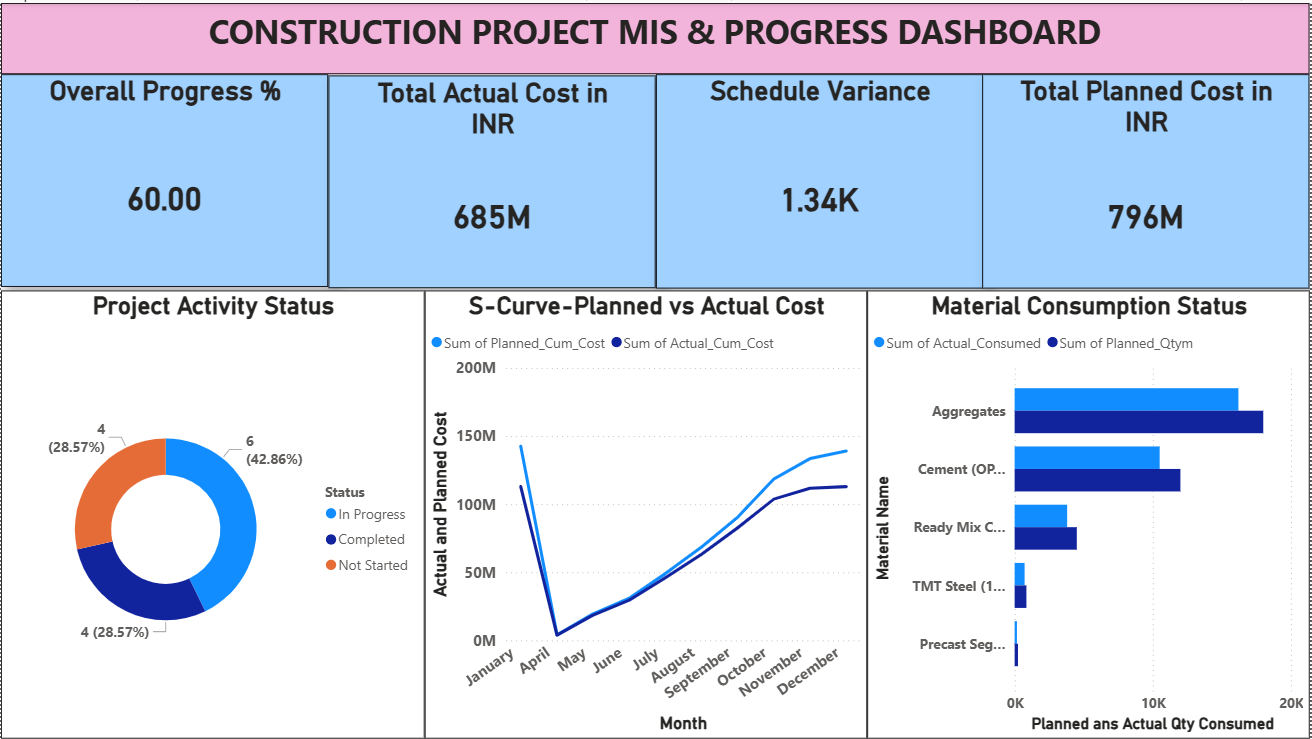

The dashboard page shown, as its layout file describes it:
{"tool":"powerbi","page":{"name":"Page 1","canvas":[1280,720],"ordinal":0},"visuals":[{"type":"card","title":"Overall Progress %","fields":{"Values":["Avg(Activities.Actual_%_Complete)"]},"box":[0,69.3,320.3,207.8],"z":0},{"type":"card","title":"Total Actual Cost in INR","fields":{"Values":["Sum(Costs.Actual_Cum_Cost)"]},"box":[320.3,70.7,320.3,207.8],"z":1000},{"type":"card","title":"Schedule Variance","fields":{"Values":["Activities.Schedule Variance"]},"box":[640.6,69.3,320.3,209.2],"z":2000},{"type":"card","title":"Total Planned Cost in INR","fields":{"Values":["Sum(Costs.Planned_Cum_Cost)"]},"box":[959.4,69.3,320.3,209.2],"z":3000},{"type":"lineChart","title":"S-Curve-Planned vs Actual Cost","fields":{"Category":["Costs.Month.Variation.Date Hierarchy.Month"],"Y":["Sum(Costs.Planned_Cum_Cost)","Sum(Costs.Actual_Cum_Cost)"]},"box":[414.1,281.3,432.8,438.6],"z":3001},{"type":"clusteredBarChart","title":"Material Consumption Status","fields":{"Category":["Materials.Material_Name"],"Y":["Sum(Materials.Actual_Consumed)","Sum(Materials.Planned_Qty)"]},"box":[846.9,281.3,432.8,438.6],"z":3002},{"type":"donutChart","title":"Project Activity Status","fields":{"Category":["Activities.Status"],"Y":["CountNonNull(Activities.Activity_ID)"]},"box":[0,281.3,414.1,438.6],"z":3003},{"type":"textbox","box":[0,0,1279.7,69.3],"z":3004}]}

Visuals, with their boxes in screenshot pixels (x1, y1, x2, y2), scaled from the page's 1280x720 canvas onto the 1312x739 screenshot:
"Overall Progress %" card: [0,71,328,284]
"Total Actual Cost in INR" card: [328,73,657,286]
"Schedule Variance" card: [657,71,985,286]
"Total Planned Cost in INR" card: [983,71,1311,286]
"S-Curve-Planned vs Actual Cost" lineChart: [424,289,868,738]
"Material Consumption Status" clusteredBarChart: [868,289,1311,738]
"Project Activity Status" donutChart: [0,289,424,738]
textbox: [0,0,1311,71]
